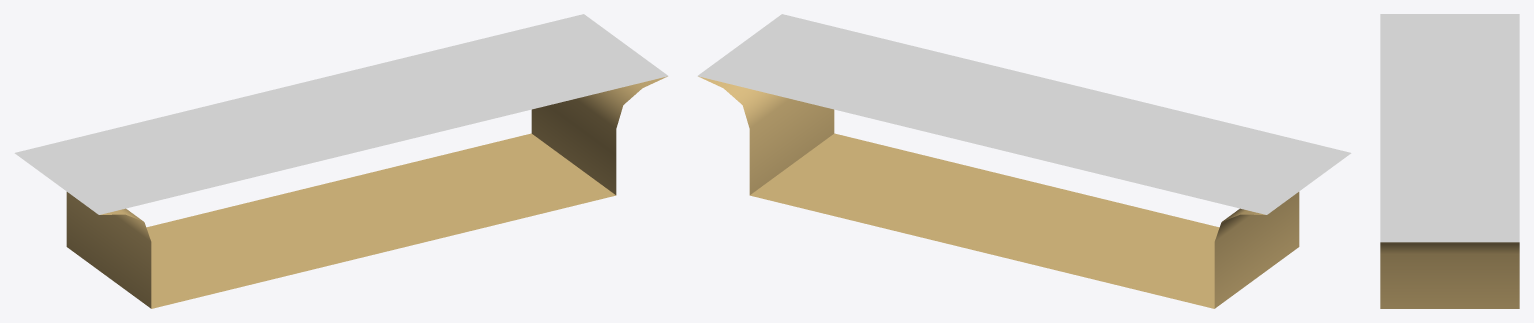
Rendered from road_mesh.fbx.
3 renders of one model, left to right at view 1: azimuth 30°, elevation 25°; view 2: azimuth 150°, elevation 25°; view 3: azimuth 270°, elevation 25°, orthographic. The views are drawn at different scales.
Visible parts, largest first — view 1: road_mesh; view 2: road_mesh; view 3: road_mesh.
Part boxes in pixels (box(x1,y1,x2,y2)): road_mesh: box(14, 14, 668, 308); road_mesh: box(697, 14, 1351, 308); road_mesh: box(1380, 14, 1519, 308).
Bounding box in the file's own units: 121 × 21.59 × 31.13.
